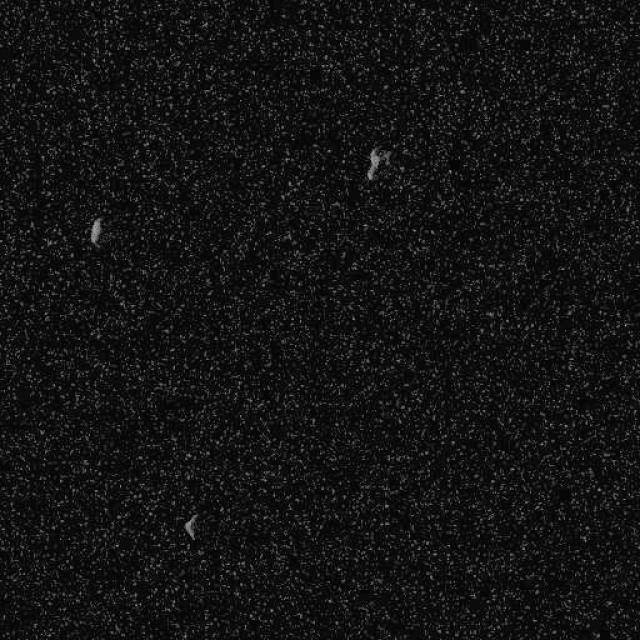D2: (364, 145, 391, 181), (88, 215, 104, 246), (182, 511, 198, 540)
